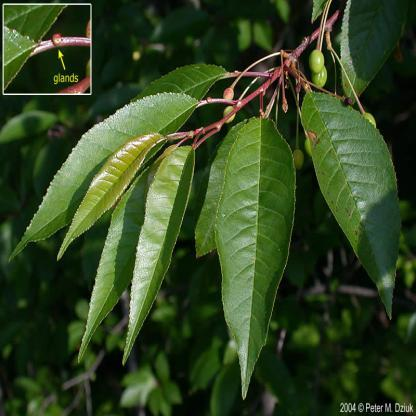Cherry leaf: (13, 91, 200, 262), (302, 76, 408, 330), (212, 107, 298, 410), (116, 137, 204, 374), (54, 122, 176, 268), (104, 60, 233, 145)
